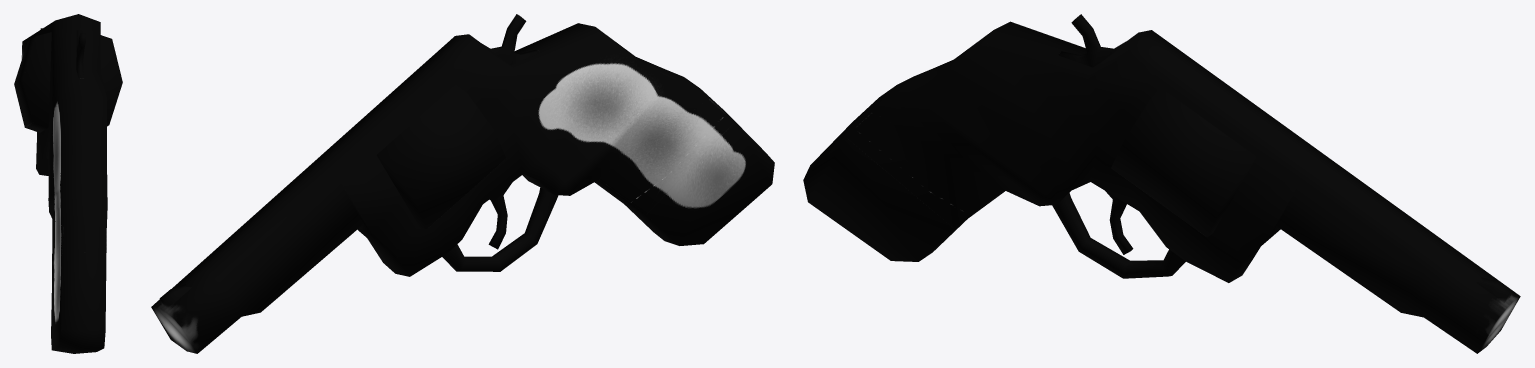
File: Gun.glb
The picture shows the model from 3 angles, left to right: view 1: azimuth 30°, elevation 25°; view 2: azimuth 150°, elevation 25°; view 3: azimuth 270°, elevation 25°; orthographic projection. The views are drawn at different scales.
Visible parts, largest first — view 1: node_id7; view 2: node_id7, node_id11; view 3: node_id7, node_id11.
Boxes of the visible parts, x1,y1,x2,y2 form: node_id7: [14, 14, 122, 353]; node_id7: [151, 14, 774, 353]; node_id11: [488, 182, 512, 249]; node_id7: [803, 14, 1520, 353]; node_id11: [1105, 191, 1133, 254].
Size of the model in its own units: 0.267 by 0.2131 by 0.4842.
2 materials, 2 textured.
